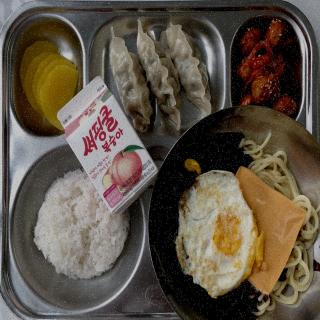Nasi: (34, 167, 131, 281)
